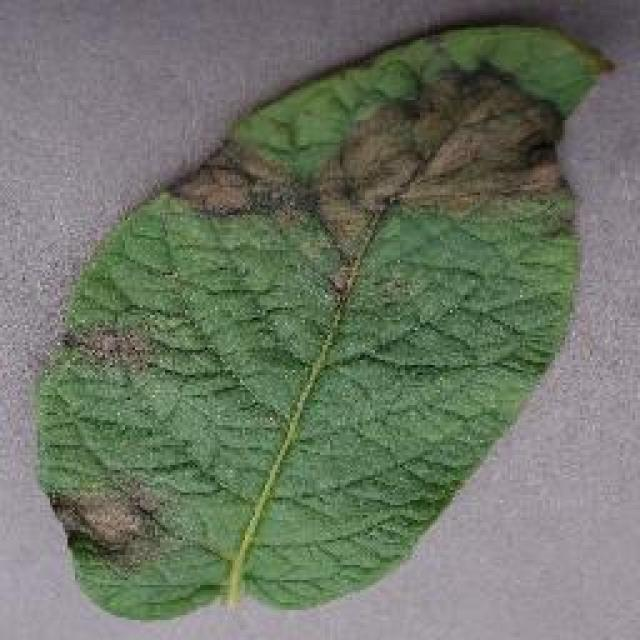late_blight: (27, 18, 615, 622)
